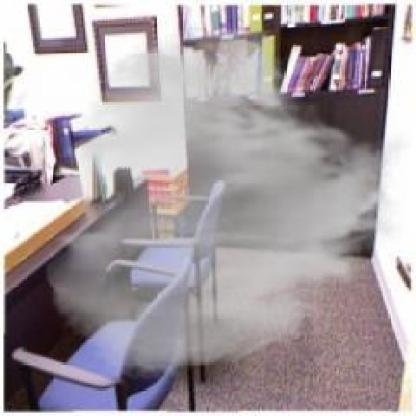Smoke: (42, 23, 412, 383)
